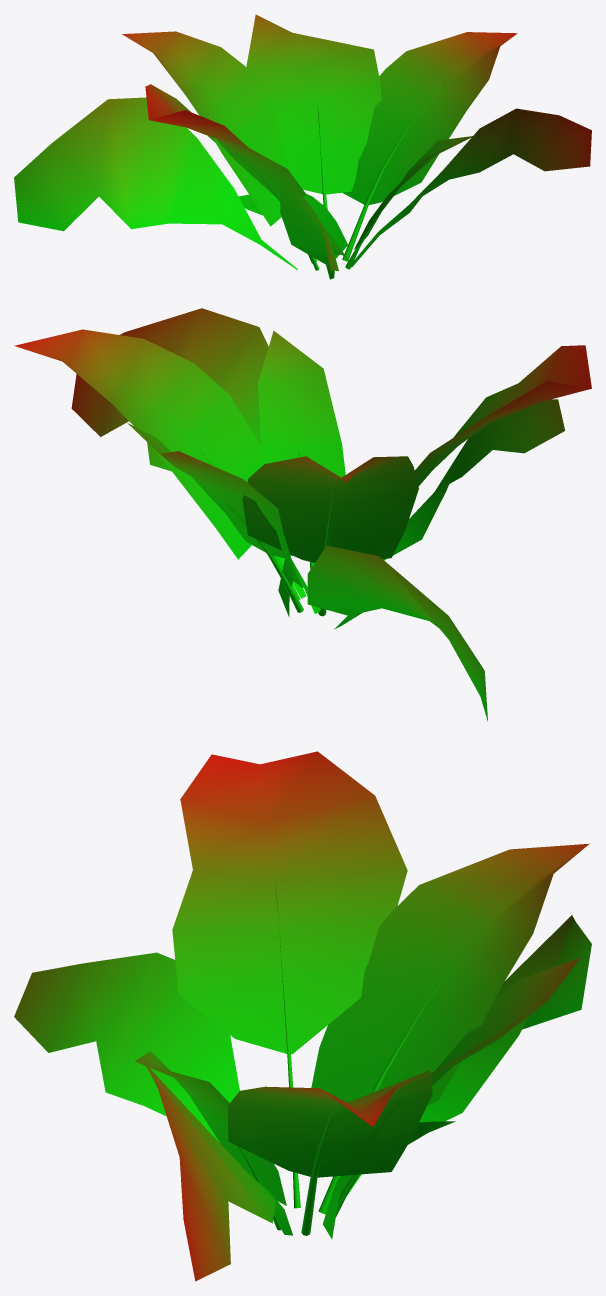
File: Lady Fern_LOD2_Var10_wdvlditia.fbx
3 views of the same model, one above another, from view 1: azimuth 30°, elevation 25°; view 2: azimuth 150°, elevation 25°; view 3: azimuth 270°, elevation 25° (orthographic). The views are drawn at different scales.
Visible parts, largest first — view 1: _wuzq_Var10_LOD2; view 2: _wuzq_Var10_LOD2; view 3: _wuzq_Var10_LOD2.
Boxes of the visible parts, x1,y1,x2,y2 form: _wuzq_Var10_LOD2: (14, 14, 591, 279); _wuzq_Var10_LOD2: (14, 308, 591, 721); _wuzq_Var10_LOD2: (14, 751, 591, 1281).
Size of the model in its own units: 43.67 by 21.11 by 32.03.
